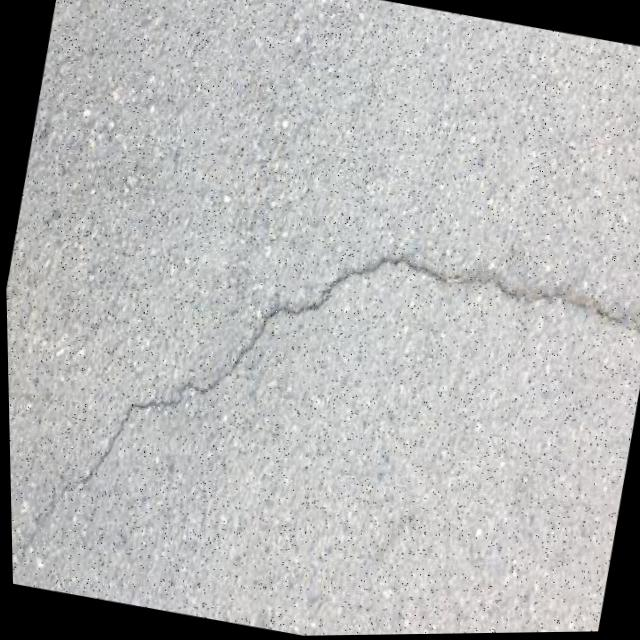Crack: (3, 174, 640, 640)
